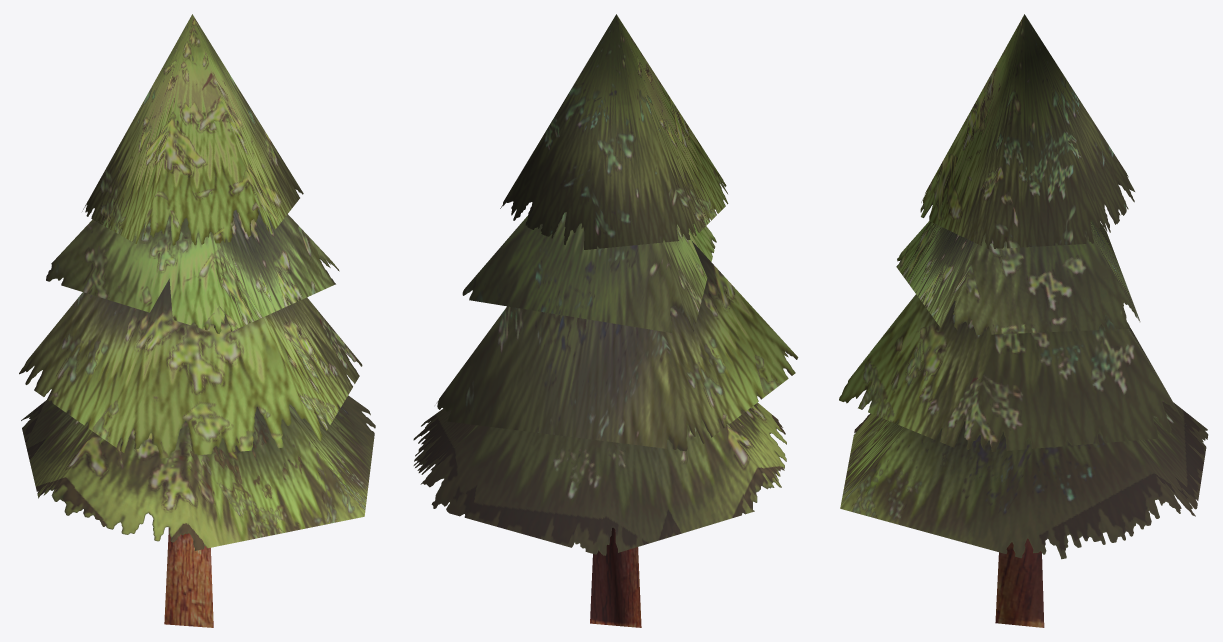
File: Bf01g_tree.fbx
The picture shows the model from 3 angles, left to right: view 1: azimuth 30°, elevation 25°; view 2: azimuth 150°, elevation 25°; view 3: azimuth 270°, elevation 25°; orthographic projection.
Visible parts, largest first — view 1: tree; view 2: tree; view 3: tree.
Part boxes in pixels (x1,y1,x2,y2): tree: (19, 14, 375, 627); tree: (413, 14, 798, 627); tree: (839, 14, 1208, 627).
Bounding box in the file's own units: 5.69 × 9.37 × 5.25.
Materials: 1 (1 with a texture image).
